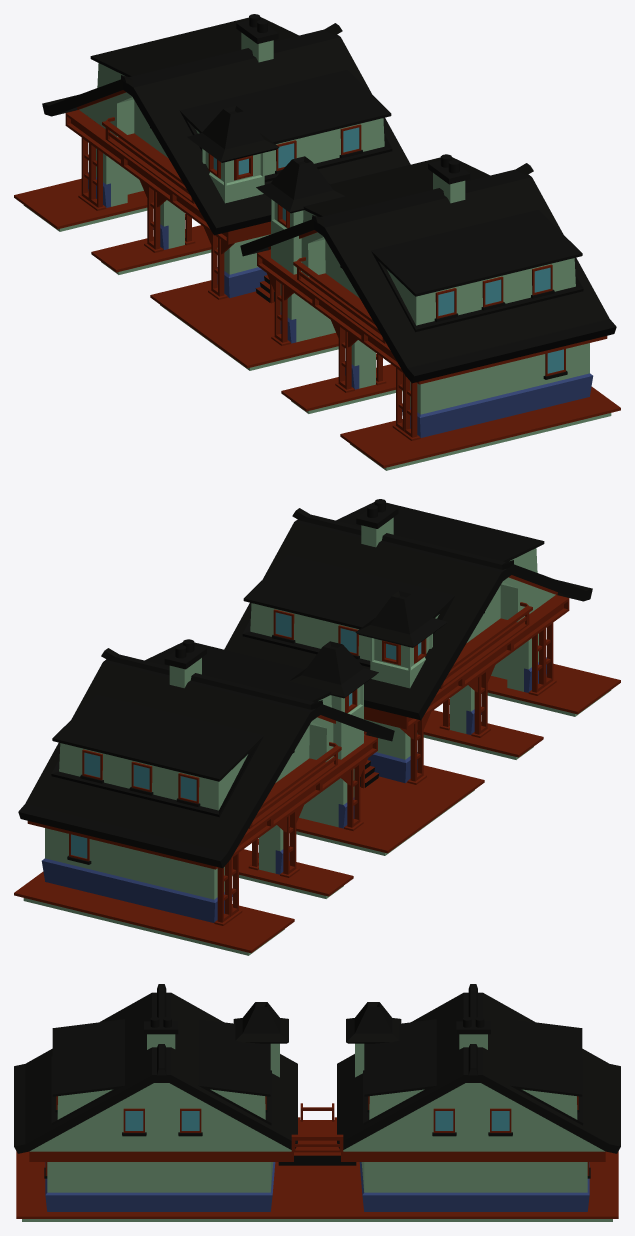
The model's file is Boathouse New.FBX.
3 renders of one model, top to bottom at view 1: azimuth 30°, elevation 25°; view 2: azimuth 150°, elevation 25°; view 3: azimuth 270°, elevation 25°, orthographic. The views are drawn at different scales.
Parts seen in each view (by area): view 1: Building; view 2: Building; view 3: Building.
Boxes of the visible parts, left/top/right/bottom form: Building: left=14, top=14, right=620, bottom=470; Building: left=14, top=499, right=620, bottom=955; Building: left=14, top=984, right=620, bottom=1221.
Bounding box in the file's own units: 119 × 102 × 325.
